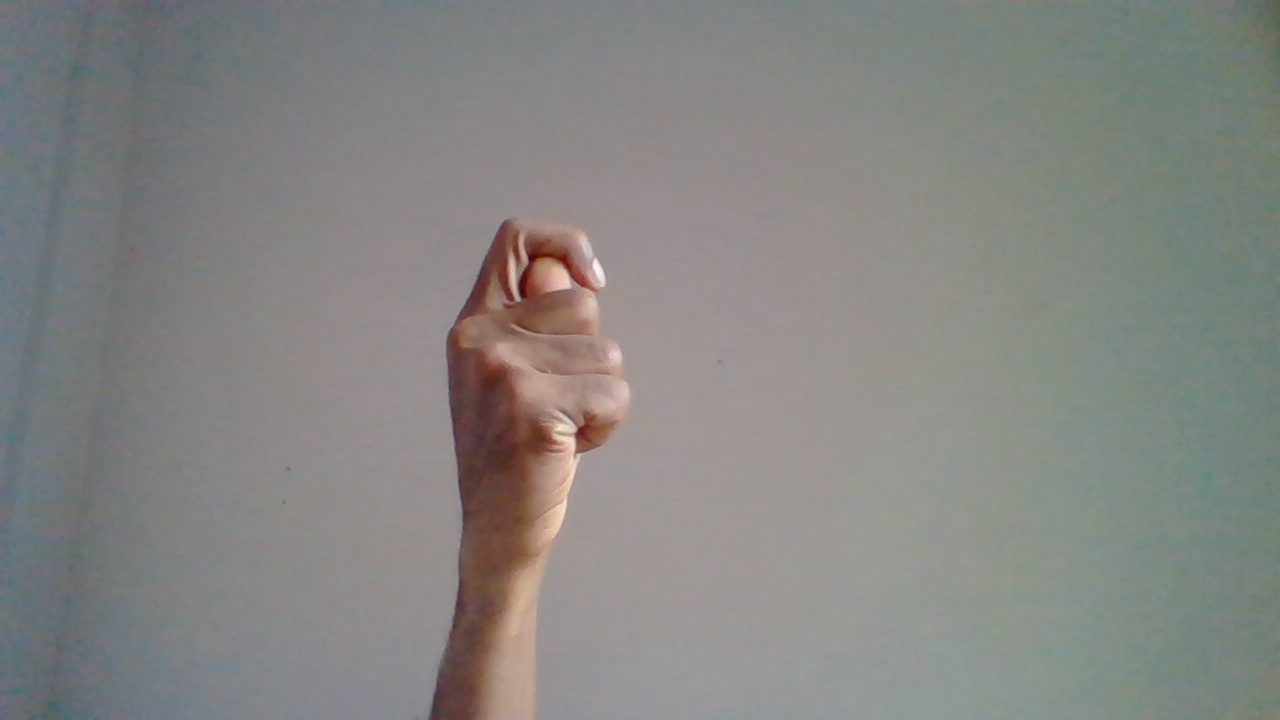che: (445, 217, 631, 695)
